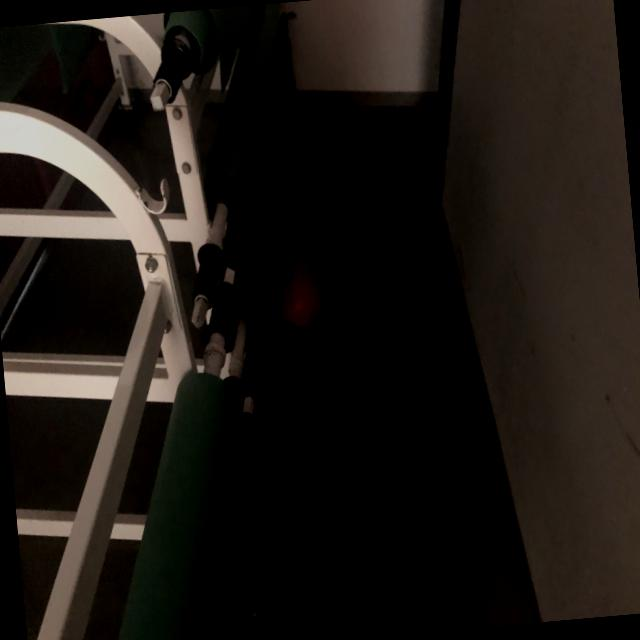red_ball: (268, 256, 322, 330)
